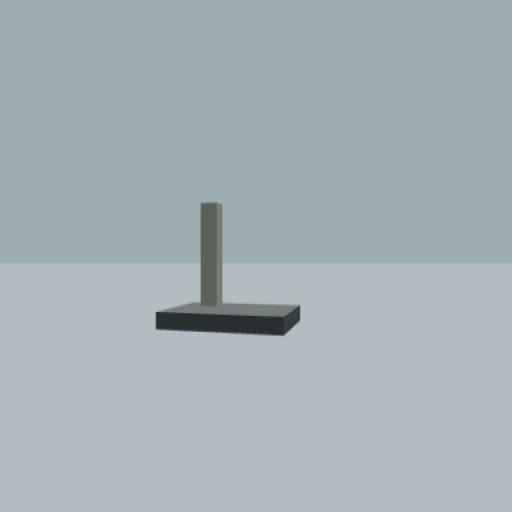platform: (154, 203, 301, 338)
